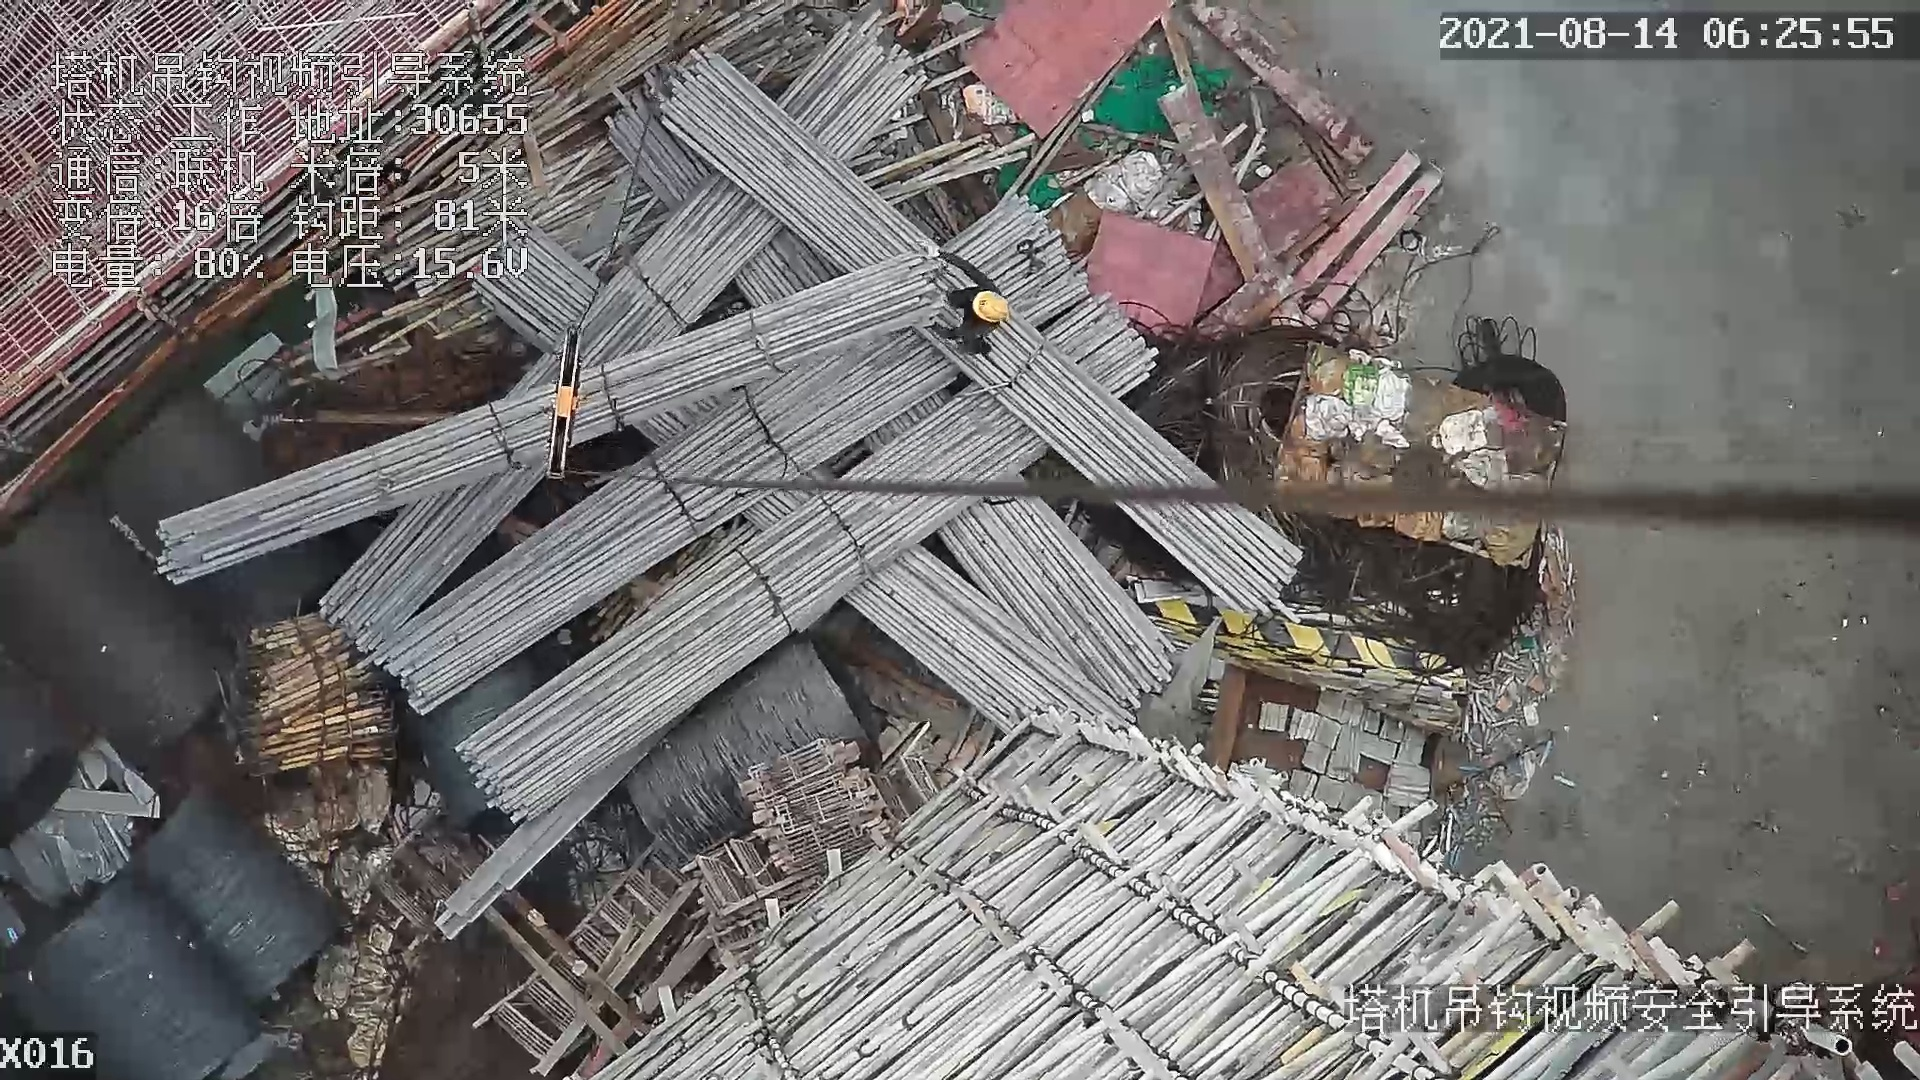helmet: (971, 289, 1011, 327)
hook: (537, 323, 585, 480)
person: (919, 235, 1003, 364)
